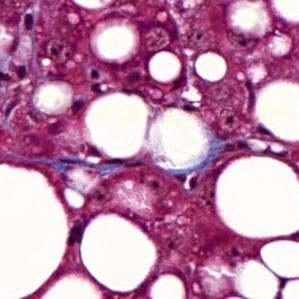steatosis: (81, 213, 157, 294), (194, 51, 228, 83), (150, 52, 181, 85)
